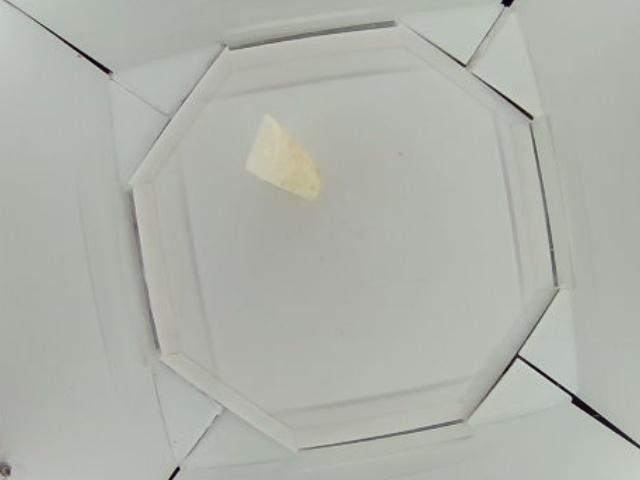Mooli: (250, 114, 320, 203)
